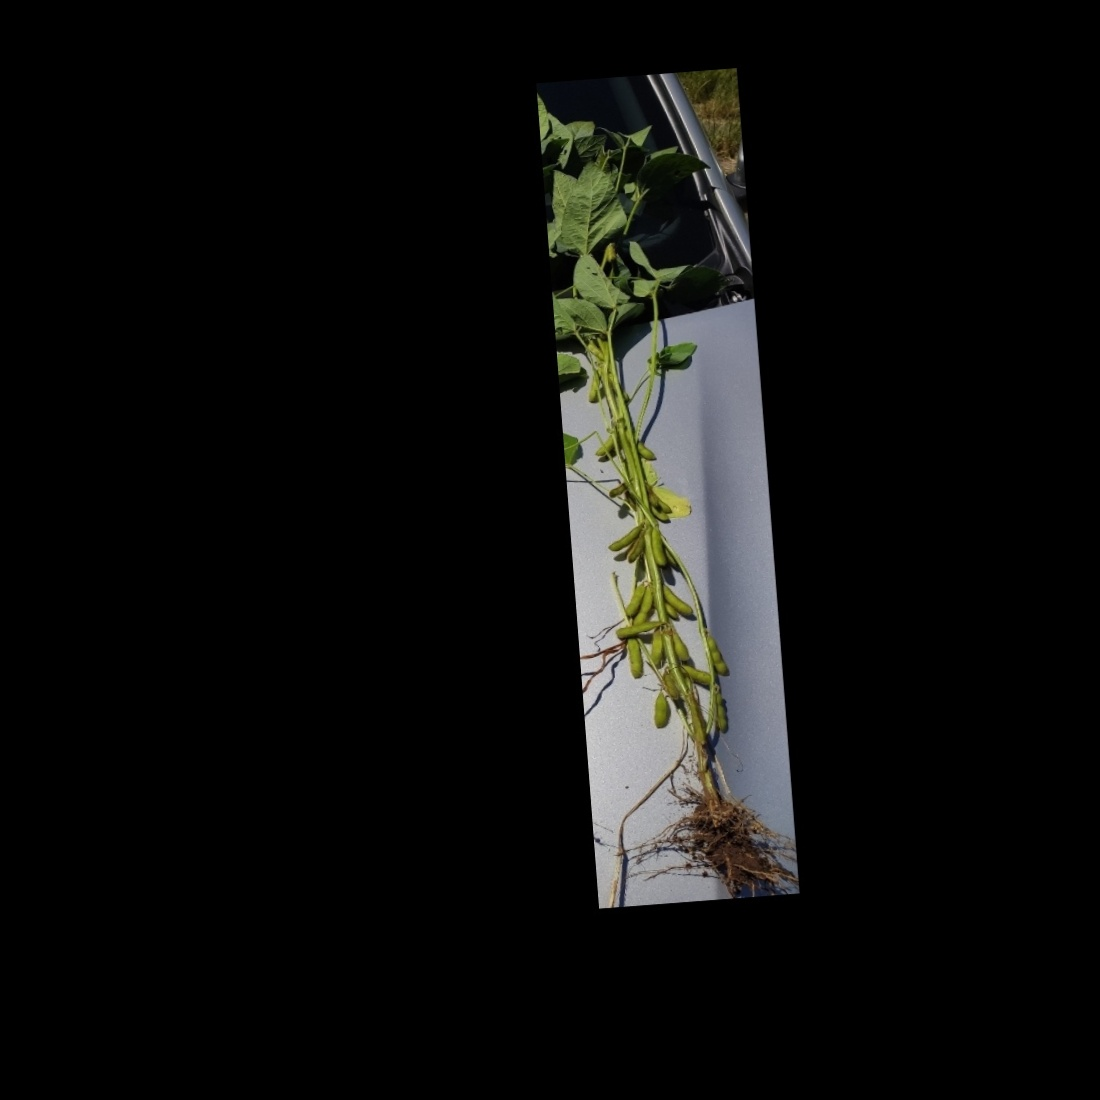pod: (660, 578, 696, 622), (706, 627, 730, 683), (622, 577, 653, 618), (625, 631, 647, 683), (607, 620, 669, 638), (650, 520, 669, 572), (650, 686, 671, 733), (604, 525, 642, 551), (670, 624, 694, 664), (712, 686, 730, 739)
soy: (537, 88, 796, 911)
